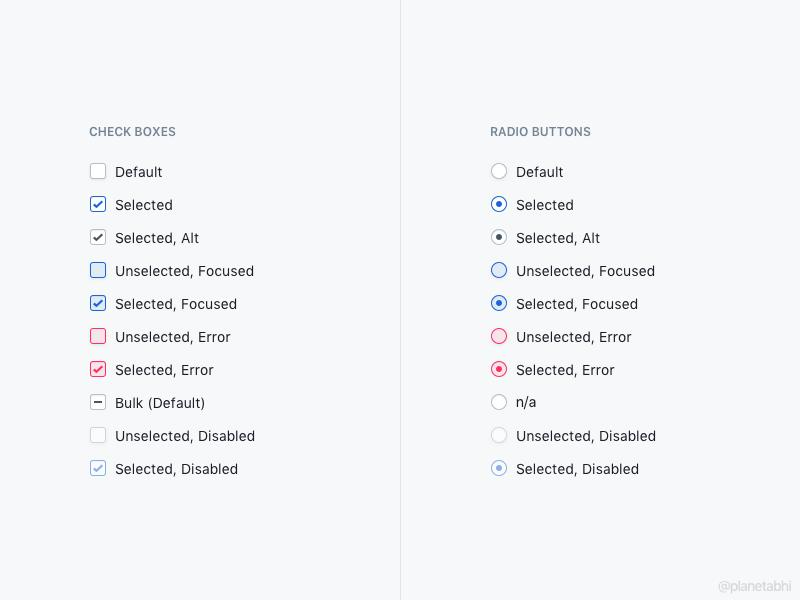checkbox: (85, 421, 111, 447), (82, 323, 109, 348), (87, 159, 112, 183), (88, 193, 111, 219), (85, 356, 111, 378), (84, 392, 110, 414), (85, 456, 110, 477), (88, 226, 110, 249), (87, 258, 108, 280), (86, 292, 107, 311)
radiobutton: (484, 417, 511, 448), (484, 156, 513, 183), (484, 388, 510, 414), (484, 458, 512, 480), (487, 357, 511, 381), (483, 323, 509, 345), (487, 193, 511, 216), (484, 260, 511, 280), (486, 228, 511, 249), (488, 291, 507, 314)
